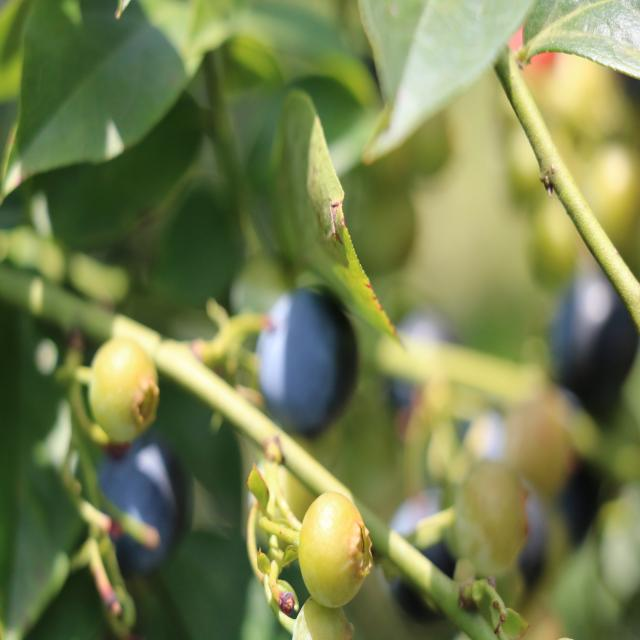blueberry: (254, 279, 364, 447), (90, 425, 198, 581), (546, 262, 636, 419), (390, 479, 480, 627), (383, 303, 458, 427), (488, 477, 552, 589)
blueberry-unripe: (296, 488, 369, 608), (85, 332, 159, 443), (289, 597, 357, 640)
